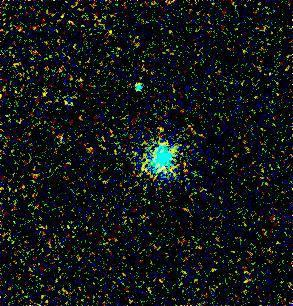star: (152, 113, 182, 143)
